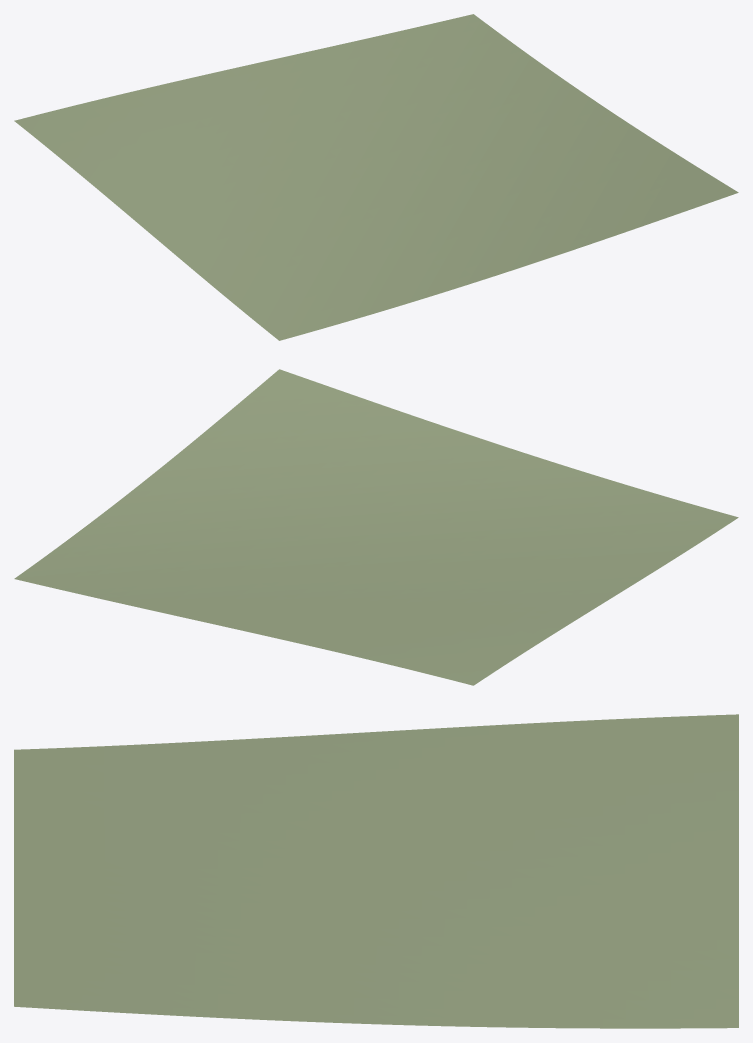
Rendered from alpine-4-14.glb.
The picture shows the model from 3 angles, top to bottom: view 1: azimuth 30°, elevation 25°; view 2: azimuth 150°, elevation 25°; view 3: azimuth 270°, elevation 25°; orthographic projection. The views are drawn at different scales.
Parts seen in each view (by area): view 1: alpine-4-14; view 2: alpine-4-14; view 3: alpine-4-14.
Boxes of the visible parts, bbox=[...] form: alpine-4-14: bbox=[14, 14, 738, 340]; alpine-4-14: bbox=[14, 369, 738, 685]; alpine-4-14: bbox=[14, 714, 738, 1028].
Bounding box in the file's own units: 256 × 19.23 × 256.
